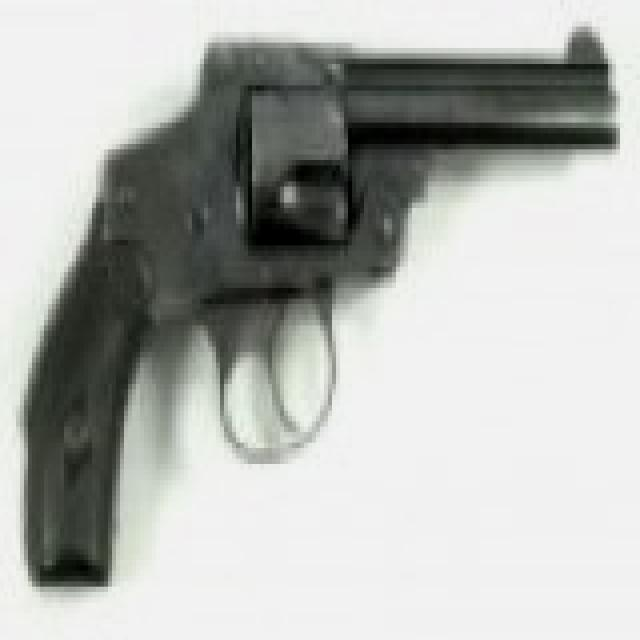pistol: (20, 32, 612, 587)
